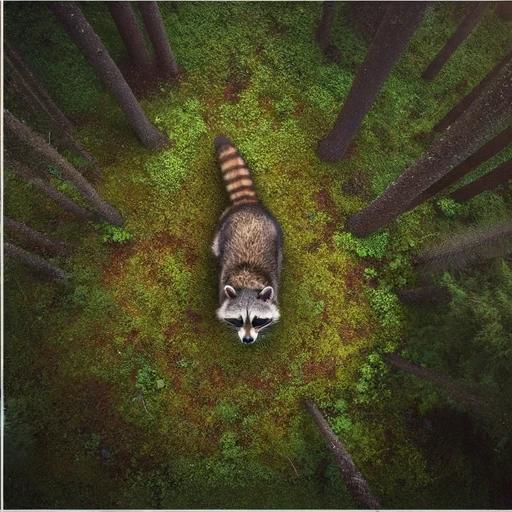raccoon: (202, 128, 295, 356)
